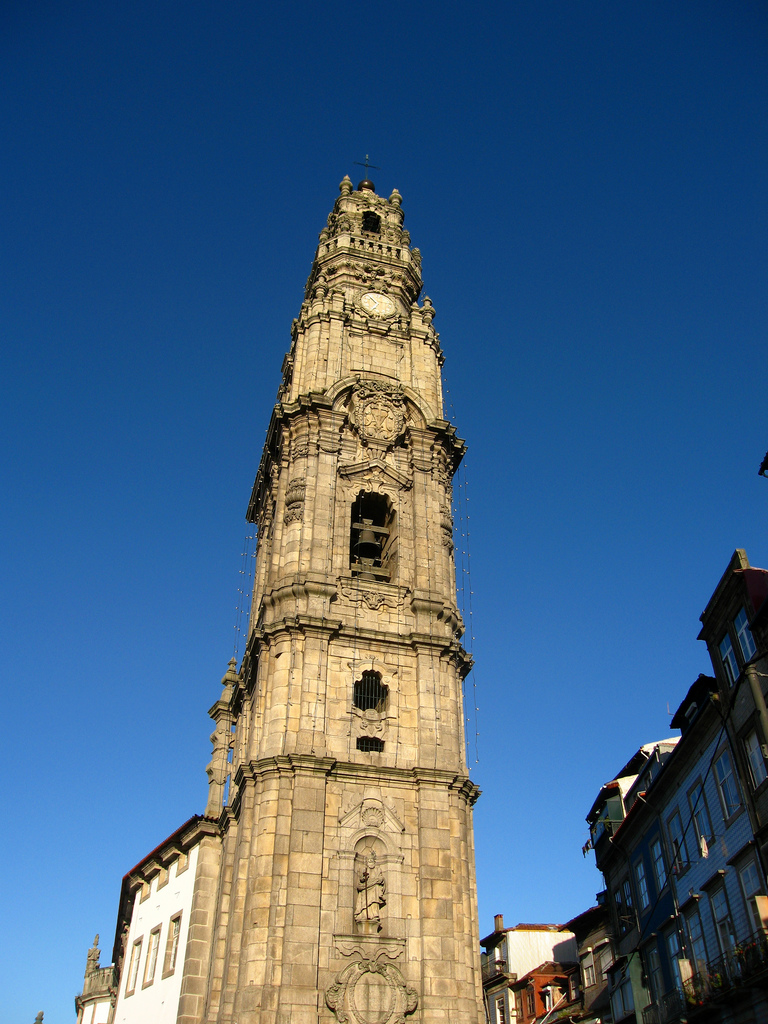clerigos: (198, 150, 487, 1023)
